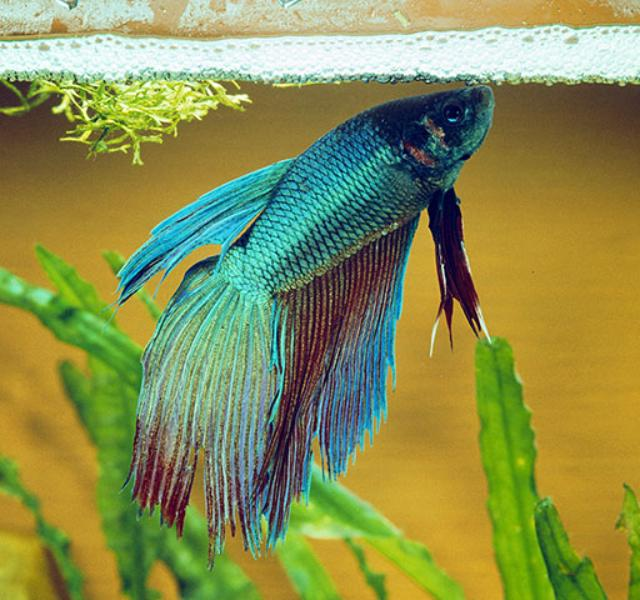Mulut: (457, 68, 517, 118)
Sirip Perut: (419, 176, 503, 371)
Sirip Punggung: (100, 135, 308, 310)
